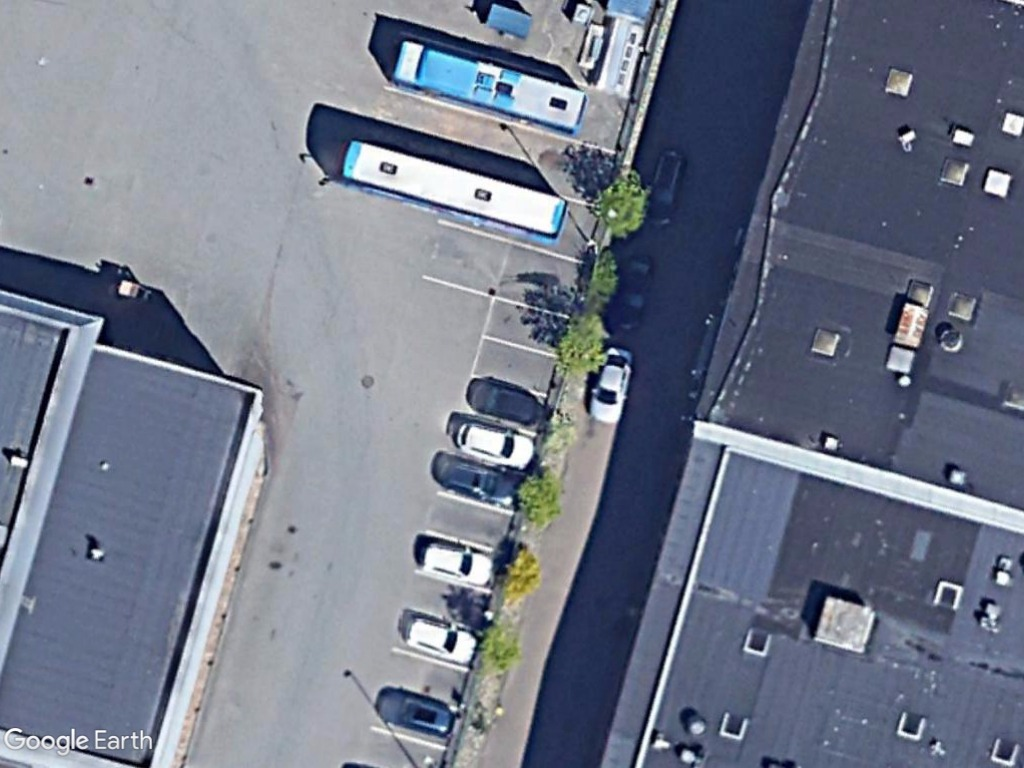bus: (334, 131, 579, 253), (381, 30, 598, 141)
car: (433, 449, 524, 512), (395, 610, 486, 672), (370, 683, 463, 743), (450, 415, 540, 472), (582, 343, 641, 429), (413, 538, 501, 591)
